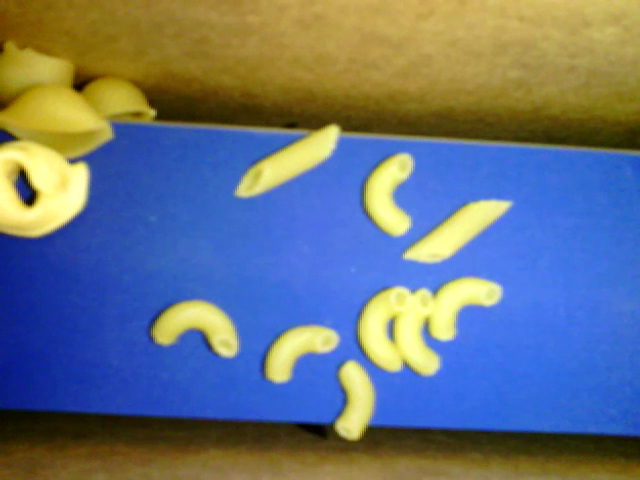elbow: (430, 277, 509, 343), (151, 298, 239, 356), (358, 153, 416, 237), (357, 281, 404, 374), (258, 326, 335, 381), (395, 285, 441, 375), (336, 355, 375, 439)
penne: (234, 120, 340, 197), (401, 200, 515, 265)
shell: (1, 85, 115, 161), (1, 42, 76, 110), (77, 75, 156, 117)
tortellini: (1, 140, 90, 238)
